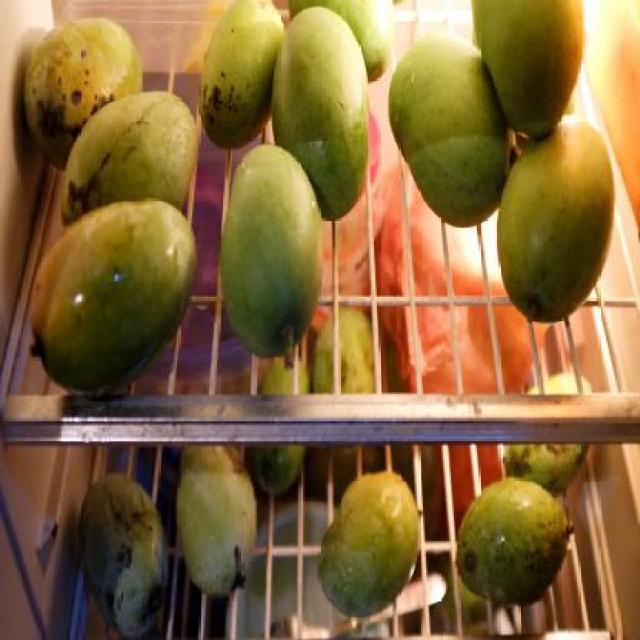Mango: (29, 198, 194, 390), (388, 34, 516, 225), (498, 121, 614, 326), (219, 142, 321, 370), (272, 8, 368, 222), (24, 21, 144, 170), (64, 96, 198, 222), (469, 0, 585, 138), (317, 472, 420, 618), (457, 477, 575, 603), (80, 472, 168, 640), (200, 0, 285, 146), (502, 373, 595, 501), (178, 439, 255, 593), (248, 360, 310, 494), (287, 5, 393, 76), (312, 308, 374, 398)
